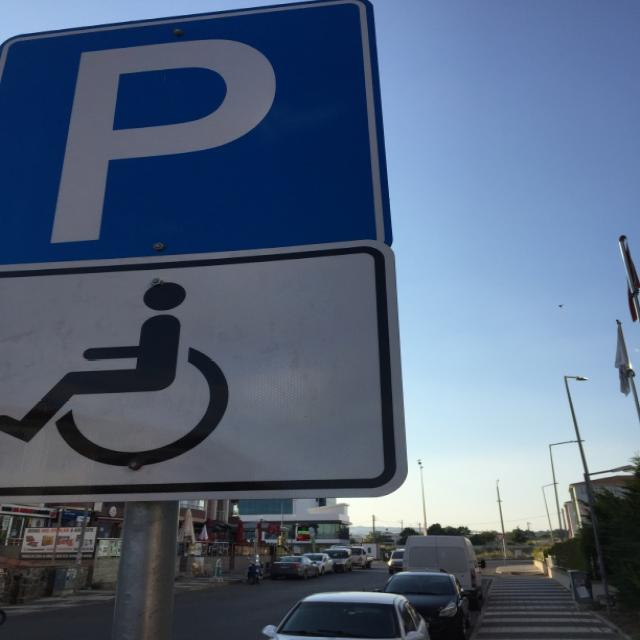park: (1, 0, 391, 248)
